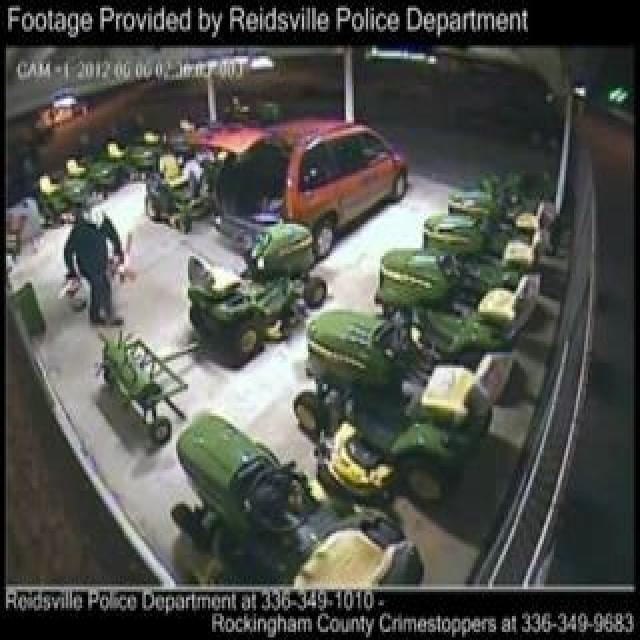thief: (54, 189, 140, 322)
